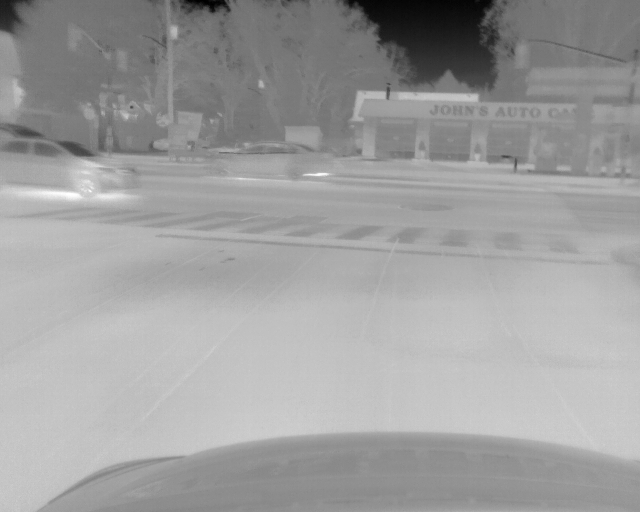car: (1, 136, 141, 197), (206, 140, 335, 180)
